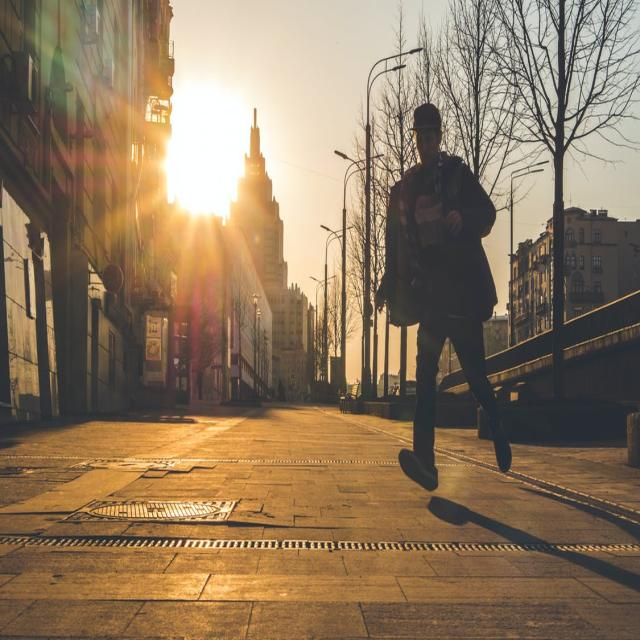running: (372, 99, 514, 497)
